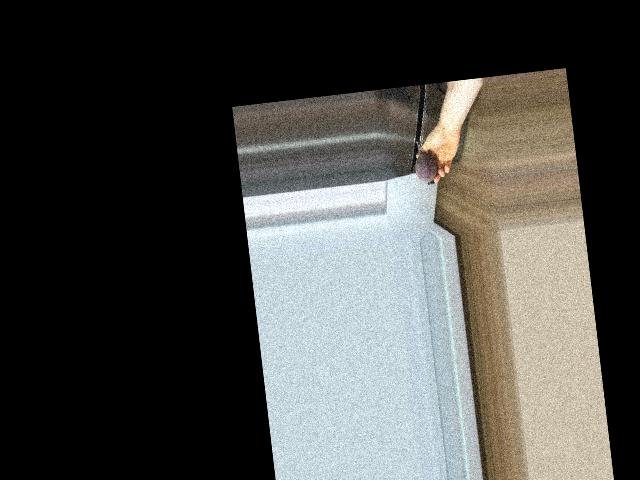beet: (412, 139, 439, 186)
